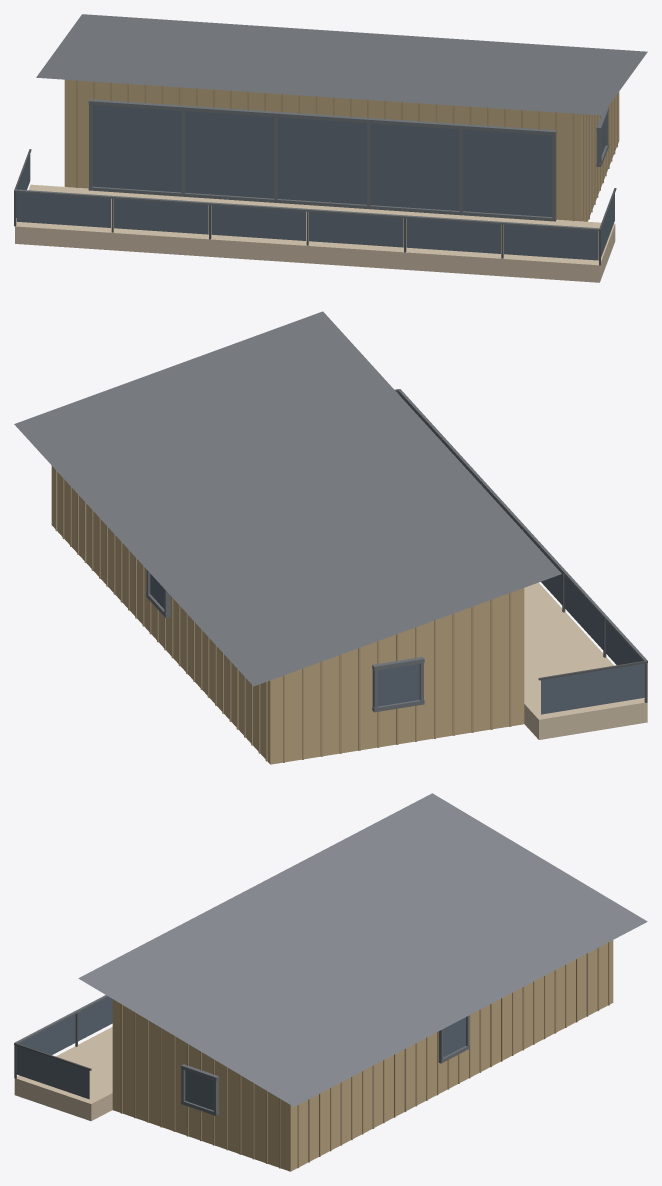
3 renders of one model, top to bottom at view 1: azimuth 30°, elevation 25°; view 2: azimuth 150°, elevation 25°; view 3: azimuth 270°, elevation 25°, orthographic. The views are drawn at different scales.
Parts seen in each view (by area): view 1: slate, larch, door_wood, slate_dk, window_glass_009, window_glass_010, window_glass_011, window_glass_012, window_glass_013, door_wood_p, window_glass_001, window_glass_002 (+6 smaller); view 2: slate, door_wood, larch, door_wood_p, window_glass_007, slate_dk, window_glass_016, window_glass_002, window_glass_001, pipe; view 3: slate, door_wood, door_wood_p, larch, window_glass_008, slate_dk, window_glass_006, window_glass_005, window_glass_014, window_glass_015.
Part boxes in pixels (x1,y1,x2,y2): slate: [36, 14, 647, 115]; larch: [15, 184, 615, 282]; door_wood: [64, 79, 619, 221]; slate_dk: [15, 99, 608, 230]; window_glass_009: [92, 105, 181, 192]; window_glass_010: [185, 111, 274, 198]; window_glass_011: [277, 117, 366, 204]; window_glass_012: [370, 123, 459, 210]; window_glass_013: [463, 129, 552, 217]; door_wood_p: [76, 80, 617, 221]; window_glass_001: [16, 192, 110, 227]; window_glass_002: [114, 199, 208, 234]; slate: [14, 311, 561, 686]; door_wood: [51, 466, 524, 764]; larch: [524, 582, 647, 739]; door_wood_p: [55, 470, 511, 762]; window_glass_007: [541, 663, 644, 714]; slate_dk: [146, 389, 647, 712]; window_glass_016: [378, 664, 419, 706]; window_glass_002: [564, 575, 603, 649]; window_glass_001: [605, 620, 642, 665]; pipe: [394, 389, 647, 702]; slate: [78, 793, 647, 1106]; door_wood: [112, 940, 613, 1171]; door_wood_p: [120, 942, 609, 1168]; larch: [14, 1027, 112, 1120]; window_glass_008: [16, 1045, 89, 1099]; slate_dk: [14, 995, 469, 1115]; window_glass_006: [19, 1014, 75, 1054]; window_glass_005: [78, 997, 112, 1041]; window_glass_014: [185, 1070, 213, 1110]; window_glass_015: [443, 1017, 465, 1057].
Size of the model in its own units: 17.68 by 3.88 by 16.73.
